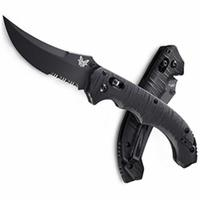knife: (1, 14, 194, 153)
